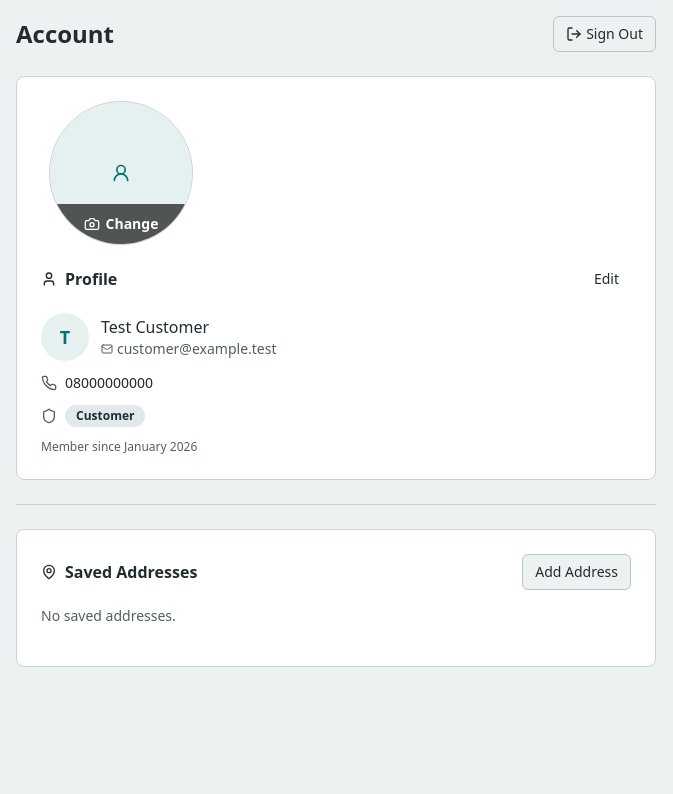
Test case: account controls › saves profile edits through the existing profile endpoint
This screenshot has width=673, height=794.
Click the button "Edit" at coordinates (606, 279), box [582, 261, 631, 297]
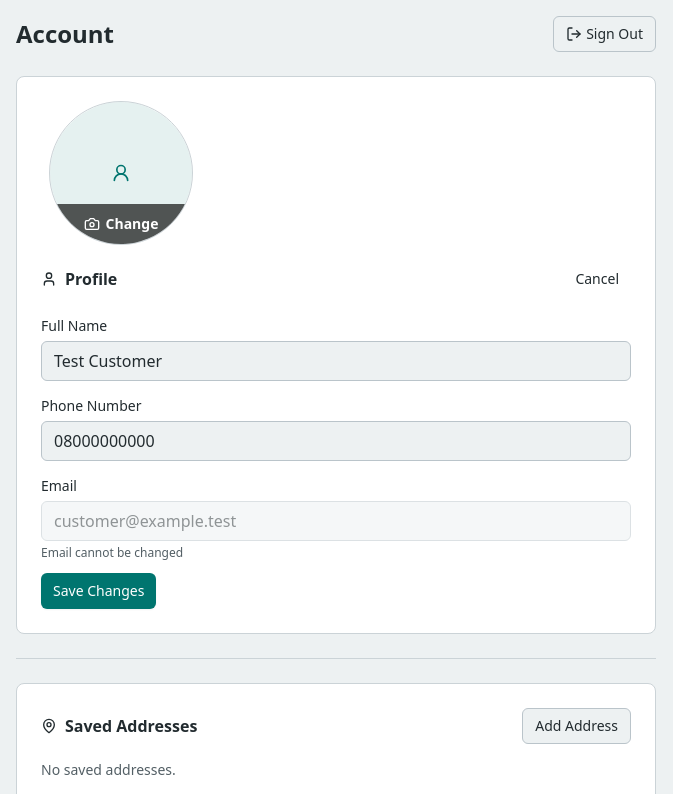
Expected: the label "Full Name" is shown, [41, 316, 107, 335]
Click the button "Save Changes" at coordinates (99, 591), box [41, 573, 156, 609]
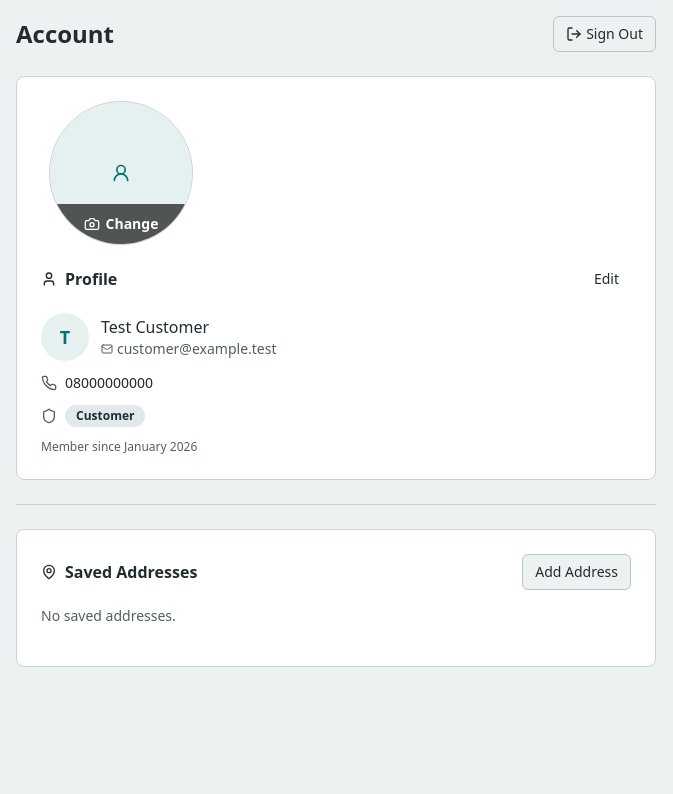
Expected: the label with id "account-name" is gone
